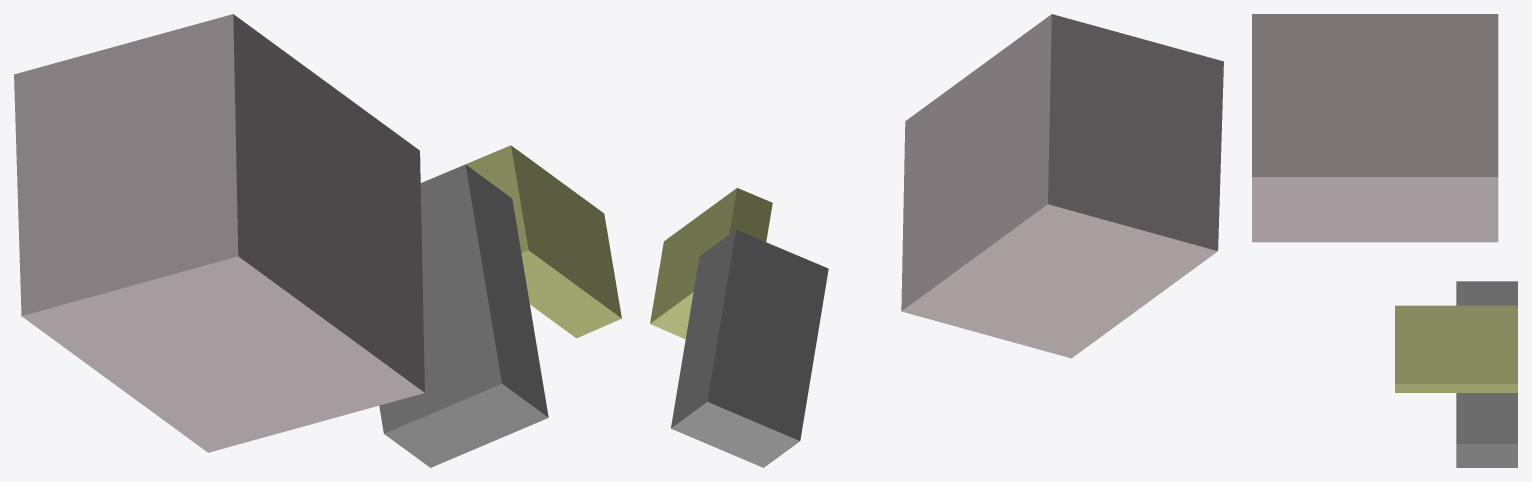
The picture shows the model from 3 angles, left to right: view 1: azimuth 30°, elevation 25°; view 2: azimuth 150°, elevation 25°; view 3: azimuth 270°, elevation 25°; orthographic projection. The views are drawn at different scales.
Parts seen in each view (by area): view 1: 0_1_2_3_3_3_3_0_0_1; view 2: 0_1_2_3_3_3_3_0_0_1; view 3: 0_1_2_3_3_3_3_0_0_1.
Boxes of the visible parts, x1,y1,x2,y2 form: 0_1_2_3_3_3_3_0_0_1: [14, 14, 621, 467]; 0_1_2_3_3_3_3_0_0_1: [650, 14, 1223, 467]; 0_1_2_3_3_3_3_0_0_1: [1252, 14, 1517, 467].
Bounding box in the file's own units: 19.65 × 16.71 × 12.96.
